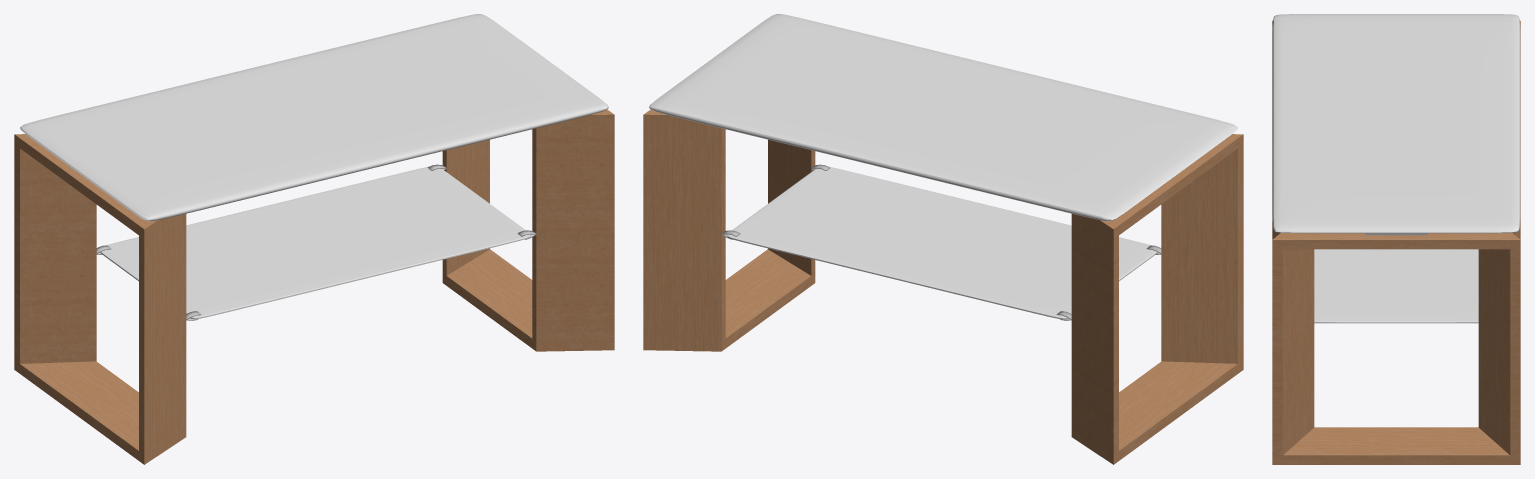
Rendered from magazineTable.fbx.
The picture shows the model from 3 angles, left to right: view 1: azimuth 30°, elevation 25°; view 2: azimuth 150°, elevation 25°; view 3: azimuth 270°, elevation 25°; orthographic projection. The views are drawn at different scales.
Parts seen in each view (by area): view 1: Plane.005, Cube.014, Plane.004, Cube.015; view 2: Plane.005, Cube.014, Plane.004, Cube.015; view 3: Plane.005, Cube.015, Plane.004, Cube.014.
Part boxes in pixels (box(x1,y1,x2,y2)): Plane.005: box(20, 14, 608, 221); Cube.014: box(14, 134, 186, 464); Plane.004: box(100, 166, 530, 319); Cube.015: box(442, 109, 614, 351); Plane.005: box(649, 14, 1237, 221); Cube.014: box(1071, 134, 1243, 464); Plane.004: box(727, 167, 1157, 319); Cube.015: box(643, 109, 815, 351); Plane.005: box(1272, 14, 1520, 233); Cube.015: box(1272, 233, 1520, 464); Plane.004: box(1314, 249, 1478, 323); Cube.014: box(1272, 20, 1520, 239).
Size of the model in its own units: 94 by 46.93 by 45.
